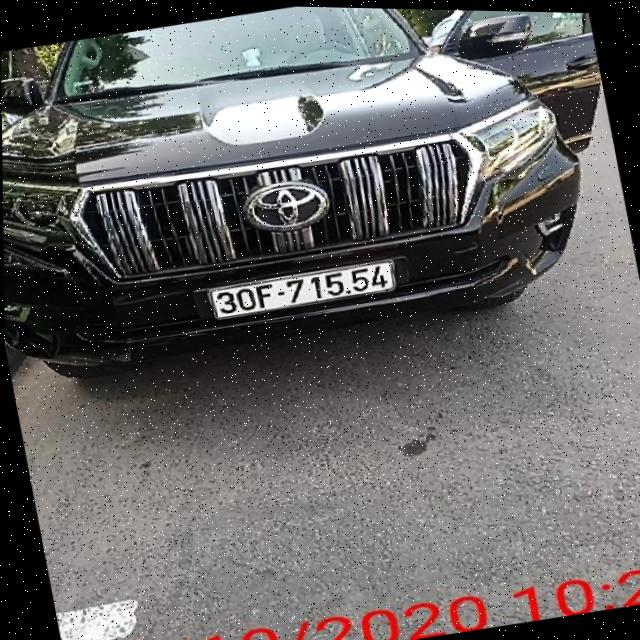car: (0, 0, 640, 407)
plate: (199, 241, 412, 334)
